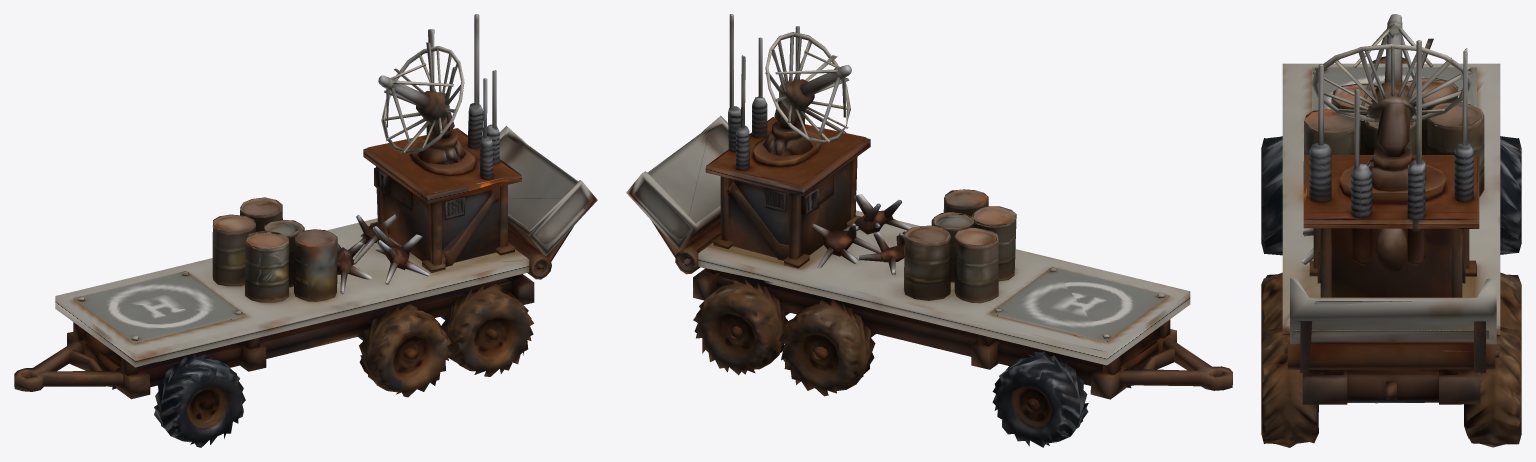
File: big_rig_rear.glb
3 views of the same model, side by side, from view 1: azimuth 30°, elevation 25°; view 2: azimuth 150°, elevation 25°; view 3: azimuth 270°, elevation 25° (orthographic). The views are drawn at different scales.
Parts seen in each view (by area): view 1: geometry_0; view 2: geometry_0; view 3: geometry_0.
Boxes of the visible parts, <box> form: geometry_0: <box>14,14,597,447</box>; geometry_0: <box>626,14,1232,447</box>; geometry_0: <box>1261,14,1521,447</box>.
Size of the model in its own units: 0.9502 by 0.521 by 0.2886.
1 material, 1 textured.
